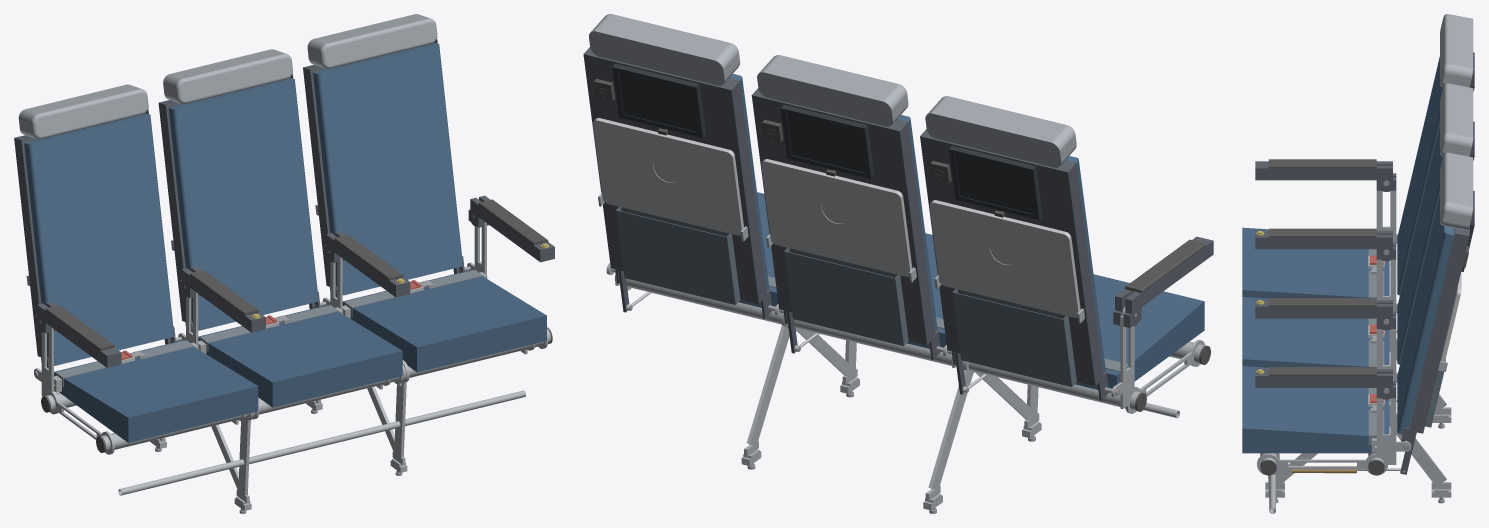
File: step_07.glb
3 renders of one model, left to right at view 1: azimuth 30°, elevation 25°; view 2: azimuth 150°, elevation 25°; view 3: azimuth 270°, elevation 25°, orthographic. The views are drawn at different scales.
Visible parts, largest first — view 1: part__seat 3 back cushion cover, part__seat 2 back cushion cover, part__seat 1 back cushion cover, part__seat 1 cushion cover, part__seat 2 cushion cover, part__seat 3 cushion cover, part__seat 2 head rest, part__seat 3 head rest, part__seat 1 head rest, part__baggage bar, part__seat 3 back shell, part__seat 1 back shell (+16 smaller); view 2: part__seat 1 tray table, part__seat 2 tray table, part__seat 3 tray table, part__seat 1 back shell, part__seat 2 back shell, part__seat 3 back shell, part__seat 2 literature pocket, part__seat 3 literature pocket, part__seat 1 literature pocket, part__seat 2 head rest, part__seat 1 head rest, part__seat 3 head rest (+15 smaller); view 3: part__seat 3 cushion cover, part__seat 1 cushion cover, part__seat 2 cushion cover, part__seat 3 back cushion cover, part__seat 3 back shell, part__seat 1 back cushion cover, part__seat 2 back cushion cover, part__seat 3 head rest, part__seat 2 head rest, part__seat 1 head rest, part__spreader 4, part__armrest 1 (+18 smaller).
Part boxes in pixels (x1,y1,x2,y2): part__seat 3 back cushion cover: (313,42,462,295); part__seat 2 back cushion cover: (168,78,318,330); part__seat 1 back cushion cover: (24,113,174,365); part__seat 1 cushion cover: (54,340,258,442); part__seat 2 cushion cover: (198,305,402,407); part__seat 3 cushion cover: (342,270,546,372); part__seat 2 head rest: (163,49,292,104); part__seat 3 head rest: (307,14,437,69); part__seat 1 head rest: (18,84,148,139); part__baggage bar: (118,390,525,495); part__seat 3 back shell: (303,39,464,297); part__seat 1 back shell: (14,109,175,367); part__seat 1 tray table: (929,200,1080,317); part__seat 2 tray table: (761,159,912,276); part__seat 3 tray table: (593,118,743,235); part__seat 1 back shell: (920,129,1108,400); part__seat 2 back shell: (751,88,940,359); part__seat 3 back shell: (583,47,772,318); part__seat 2 literature pocket: (784,248,908,345); part__seat 3 literature pocket: (616,207,740,304); part__seat 1 literature pocket: (952,289,1076,386); part__seat 2 head rest: (757,55,908,126); part__seat 1 head rest: (925,96,1076,167); part__seat 3 head rest: (589,14,740,85); part__seat 3 cushion cover: (1242,366,1389,453); part__seat 1 cushion cover: (1242,227,1389,298); part__seat 2 cushion cover: (1242,297,1389,367); part__seat 3 back cushion cover: (1397,195,1454,434); part__seat 3 back shell: (1400,227,1469,474); part__seat 1 back cushion cover: (1397,56,1442,295); part__seat 2 back cushion cover: (1397,126,1442,364); part__seat 3 head rest: (1440,152,1473,230); part__seat 2 head rest: (1440,83,1473,156); part__seat 1 head rest: (1440,14,1473,87); part__spreader 4: (1257,398,1411,474); part__armrest 1: (1255,161,1396,191).
Bounding box in the file's own units: 1554 × 1201 × 709.
